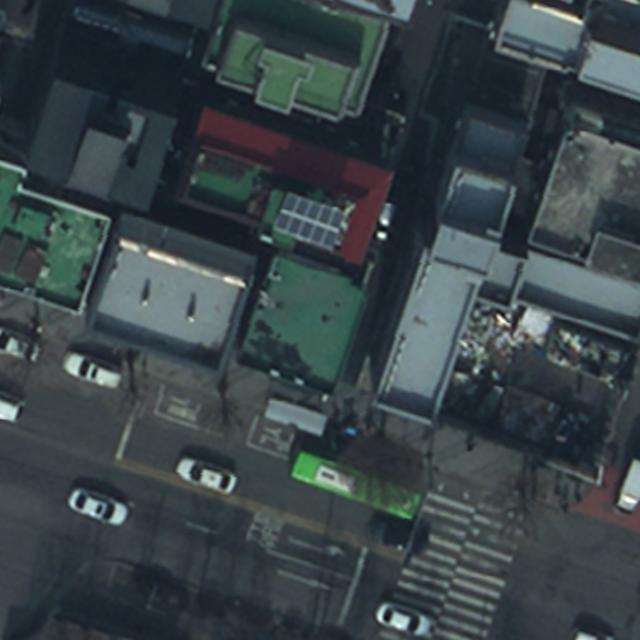panel: (270, 190, 344, 250)
